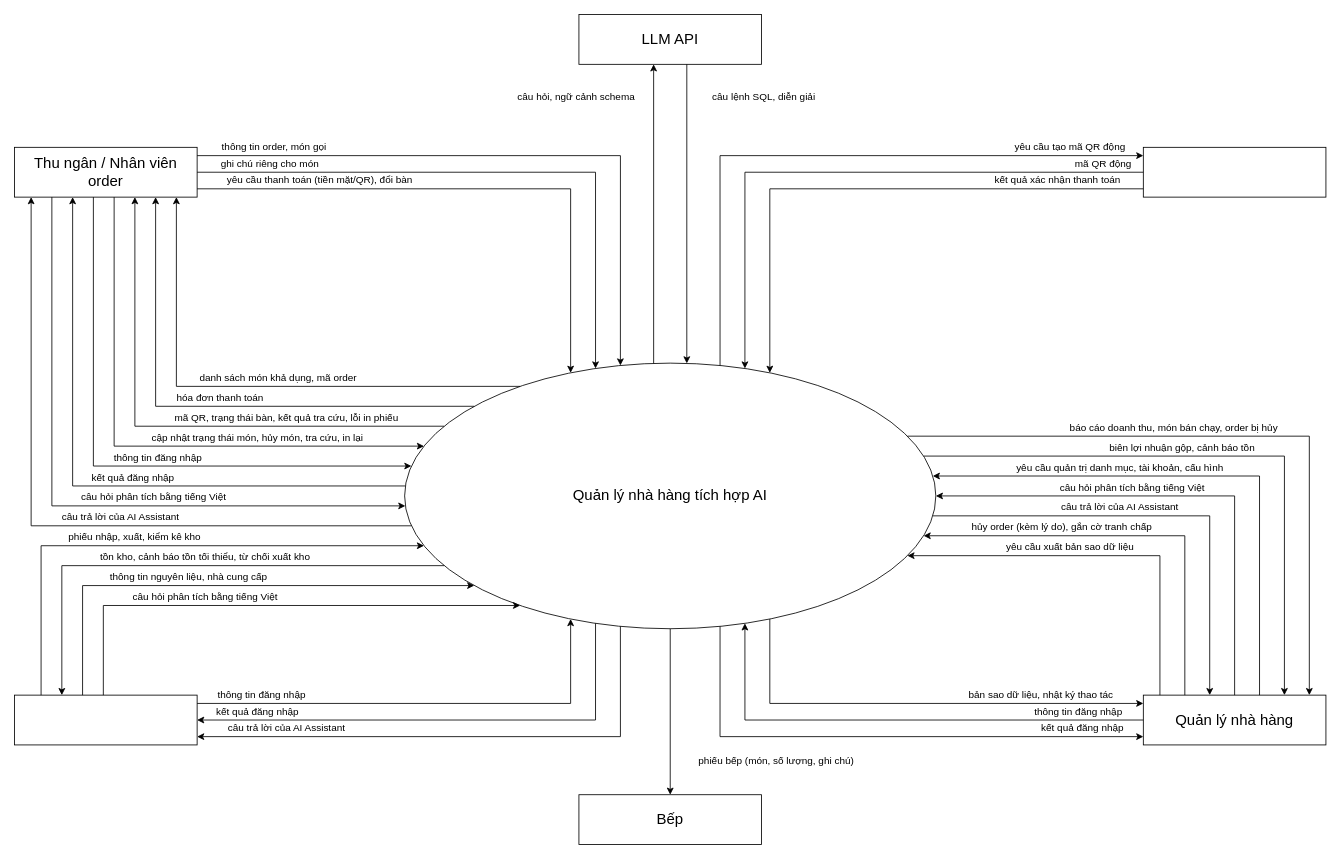
This 1340x859 diagram has some shape labels left out. Here are the shapes that lost their labels. From the top down, the centre of each, then its label:
point (1234, 171): Cổng thanh toán QR
point (105, 719): Nhân viên kho
